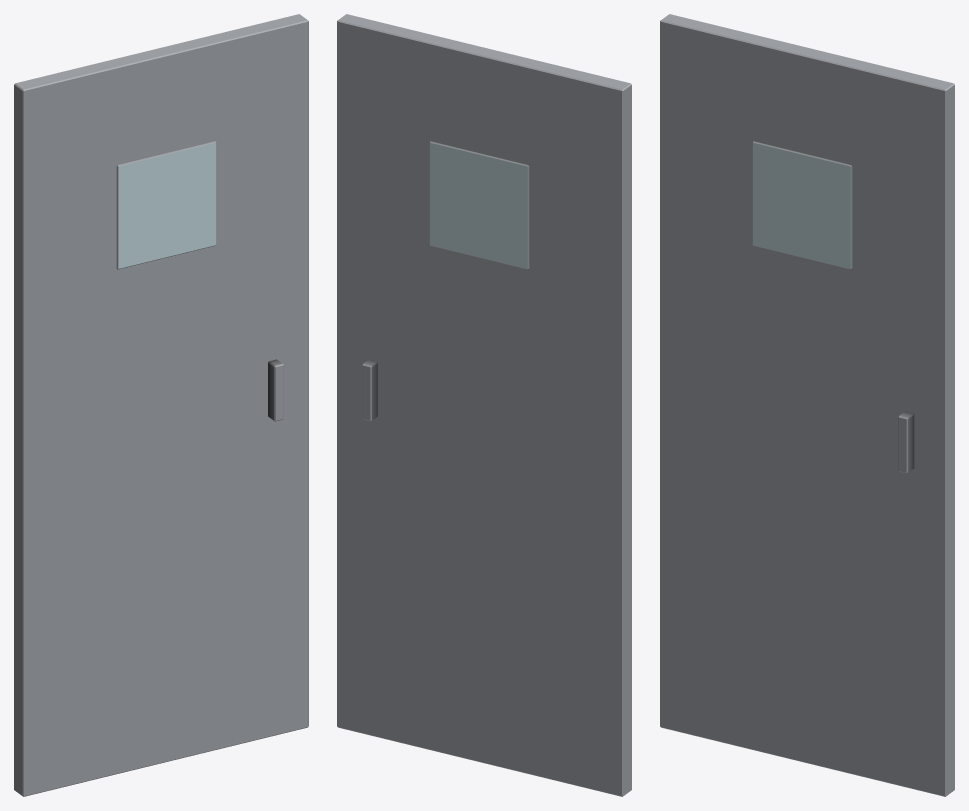
File: door_metal.glb
The picture shows the model from 3 angles, left to right: view 1: azimuth 30°, elevation 25°; view 2: azimuth 150°, elevation 25°; view 3: azimuth 330°, elevation 25°; orthographic projection.
Visible parts, largest first — view 1: door_metal; view 2: door_metal; view 3: door_metal.
Boxes of the visible parts, bbox=[...] form: door_metal: bbox=[14, 14, 308, 796]; door_metal: bbox=[337, 14, 631, 796]; door_metal: bbox=[660, 14, 954, 796].
Bounding box in the file's own units: 0.86 × 2.03 × 0.12.
